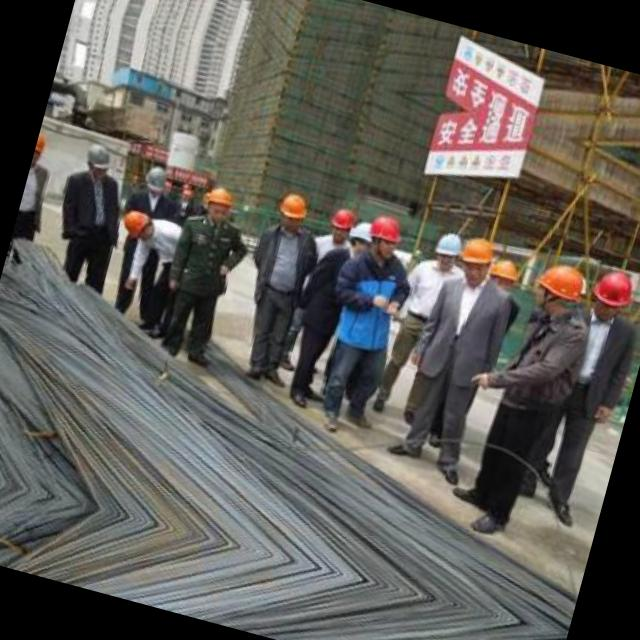helmet: (529, 256, 587, 320), (586, 263, 638, 323), (481, 248, 525, 308), (358, 211, 406, 264), (456, 231, 499, 282), (272, 185, 313, 233), (116, 206, 161, 246), (78, 136, 116, 182), (344, 216, 380, 264), (199, 179, 237, 224), (428, 226, 464, 270), (324, 202, 358, 245), (142, 162, 170, 196)
